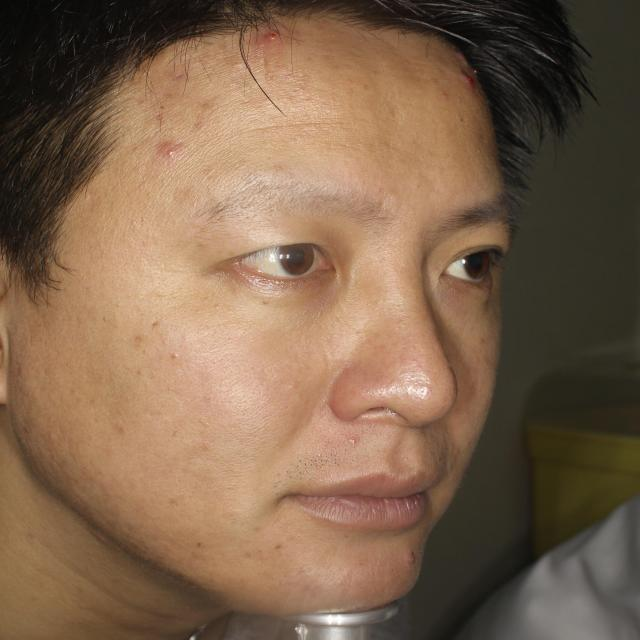comedone: (144, 122, 196, 171), (246, 21, 292, 52), (395, 548, 432, 566)
